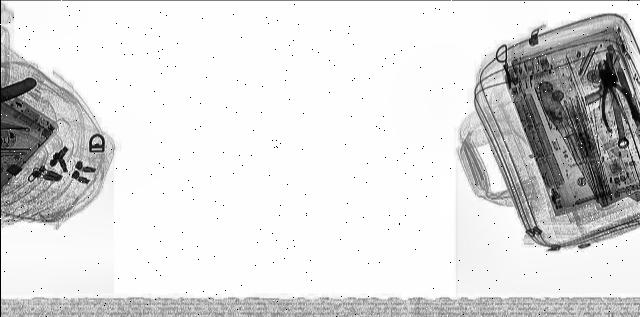Gun: (572, 52, 624, 104)
Knife: (531, 80, 609, 202)
Pliers: (588, 68, 640, 126)
